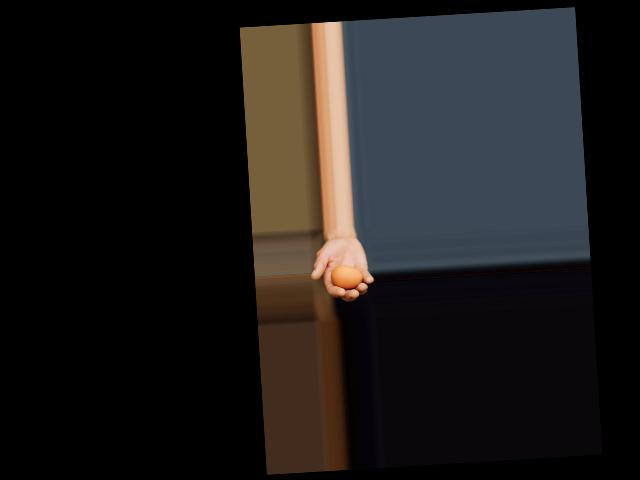egg: (330, 264, 364, 289)
